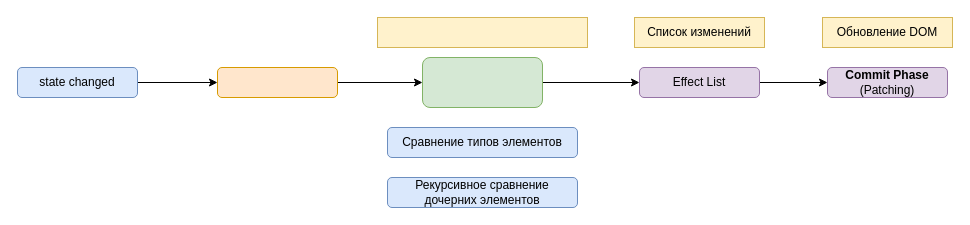
Image size: 970x225. Some labels were removed from this diagram. Each missing label, with the centre of its shape:
Render Phase (Diffing): pixel 482 82
Virtual DOM: pixel 277 82
Какие элементы были добавлены, удалены или изменены: pixel 482 32
